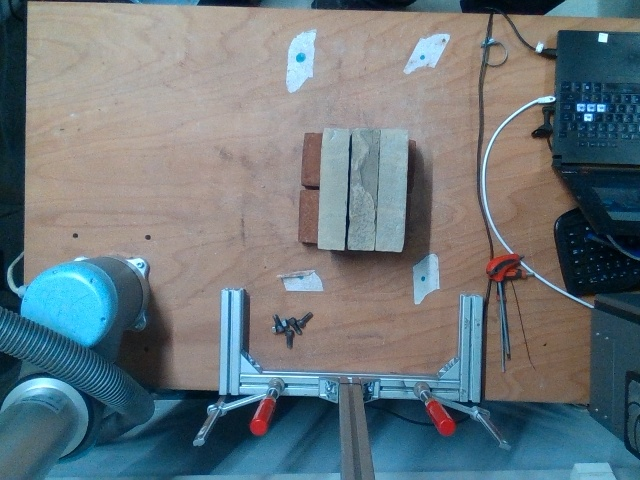brick-side: (346, 126, 382, 249), (316, 126, 352, 249), (374, 127, 409, 250)
